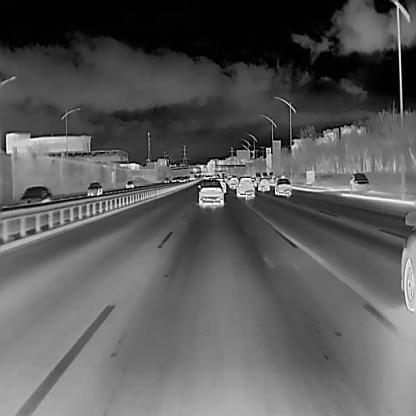car: (18, 184, 53, 213), (196, 178, 225, 206), (235, 177, 255, 199), (346, 172, 369, 191), (274, 177, 291, 197), (84, 180, 102, 197), (256, 176, 270, 191), (228, 176, 239, 188), (124, 179, 134, 190), (188, 171, 194, 180), (162, 176, 169, 183), (170, 176, 176, 182), (178, 176, 183, 183)
